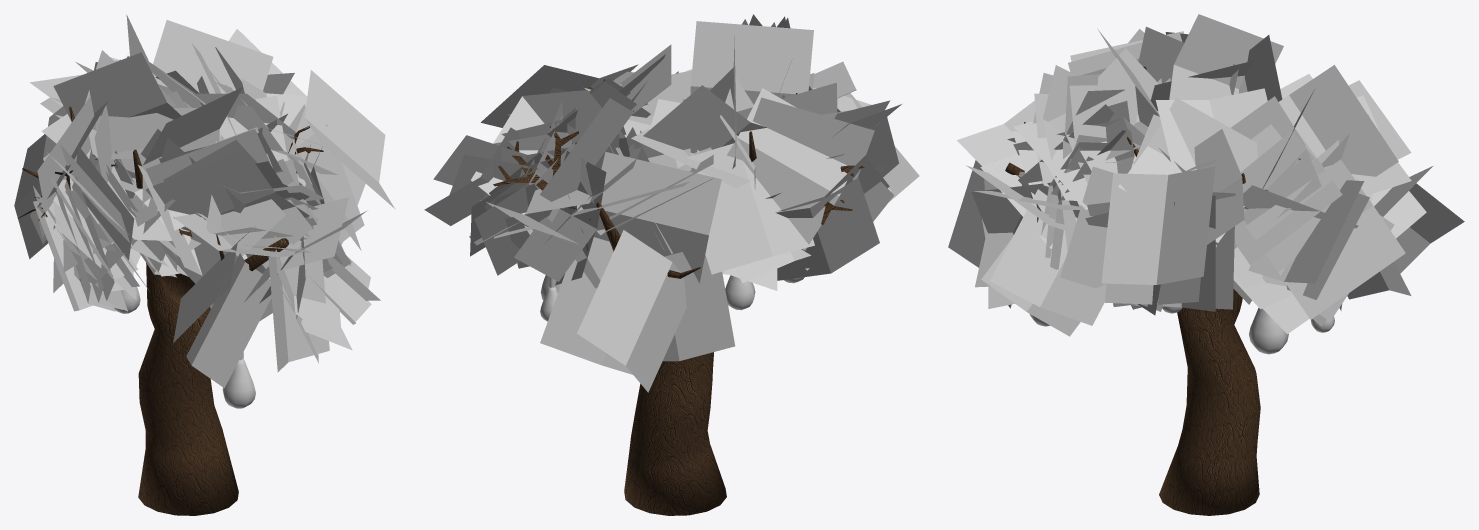
The model's file is PinkTree11_2_WithFruits.fbx.
3 renders of one model, left to right at view 1: azimuth 30°, elevation 25°; view 2: azimuth 150°, elevation 25°; view 3: azimuth 270°, elevation 25°, orthographic. The views are drawn at different scales.
Parts seen in each view (by area): view 1: Tree5_WithFruits|PinkLeaves_1|Dupli|26, Tree5_WithFruits, OrangeFruit.010; view 2: Tree5_WithFruits|PinkLeaves_1|Dupli|26, Tree5_WithFruits, OrangeFruit.011; view 3: Tree5_WithFruits|PinkLeaves_1|Dupli|26, Tree5_WithFruits, OrangeFruit.014.
Part boxes in pixels (<box>): Tree5_WithFruits|PinkLeaves_1|Dupli|26: <box>14,14,395,388</box>; Tree5_WithFruits: <box>18,106,323,515</box>; OrangeFruit.010: <box>222,352,255,408</box>; Tree5_WithFruits|PinkLeaves_1|Dupli|26: <box>424,14,919,392</box>; Tree5_WithFruits: <box>493,79,864,515</box>; OrangeFruit.011: <box>725,275,755,310</box>; Tree5_WithFruits|PinkLeaves_1|Dupli|26: <box>948,14,1464,336</box>; Tree5_WithFruits: <box>1005,66,1300,515</box>; OrangeFruit.014: <box>1249,189,1288,354</box>.
Bounding box in the file's own units: 1215 × 1451 × 1493.
